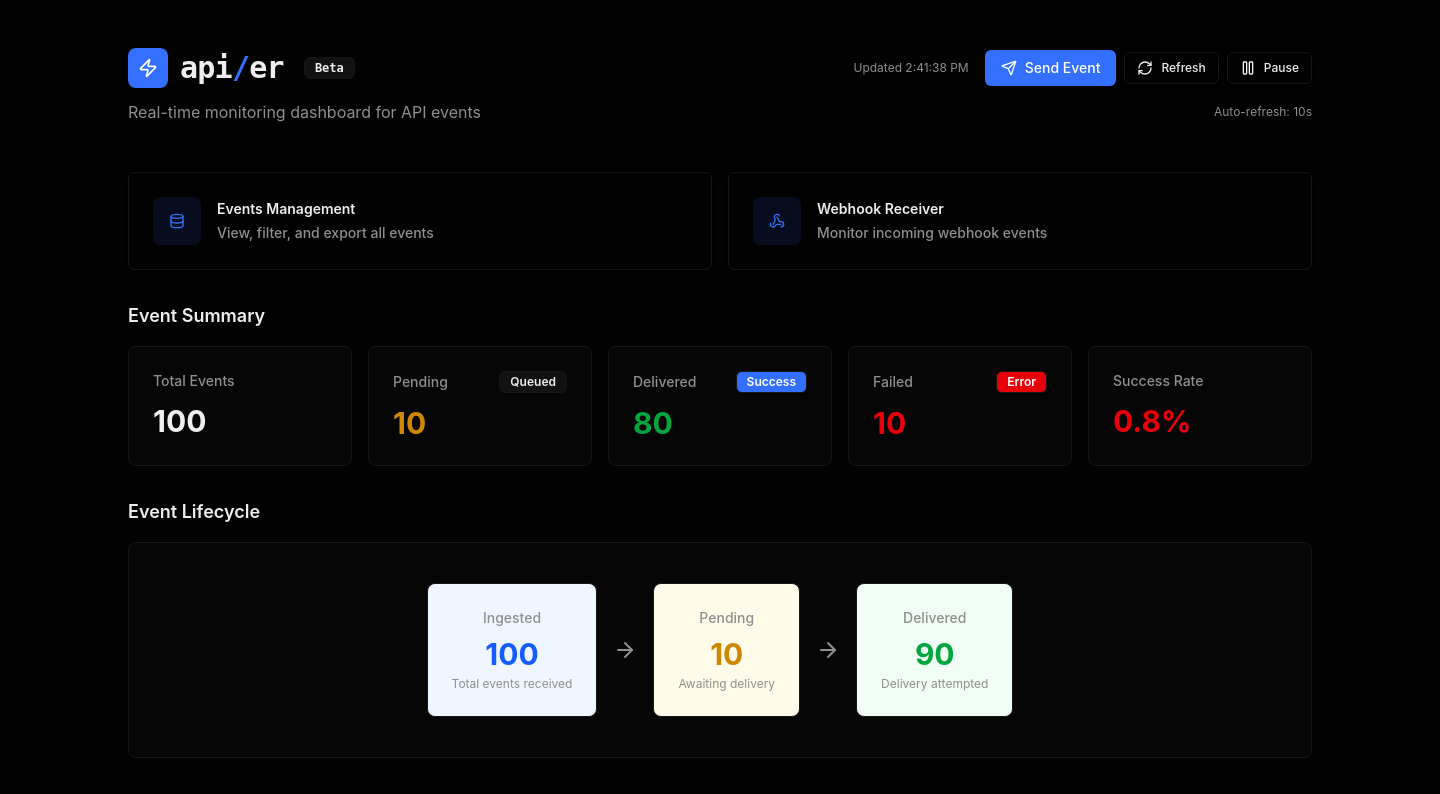
Scenario: Dashboard Auto-Refresh E2E Tests › Pause/Resume Functionality › should toggle button text between Pause and Resume
// Click to pause - should show Resume
Click the button "Pause" at [1269, 68], box left=1227, top=52, right=1312, bottom=84
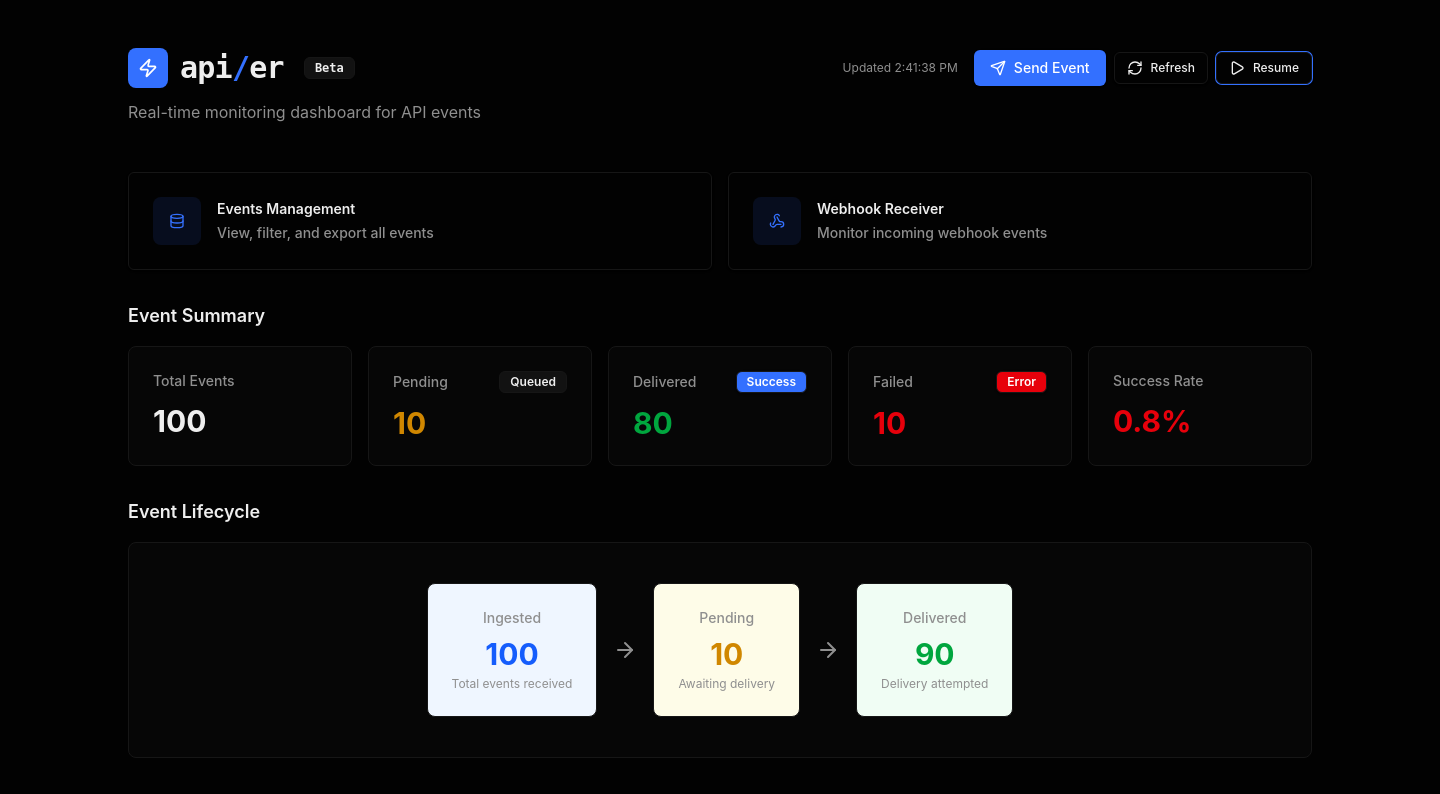
Result: the button "Resume" is shown
// Click to resume - should show Pause again
Click the button "Resume" at [1264, 68], box left=1216, top=52, right=1312, bottom=84
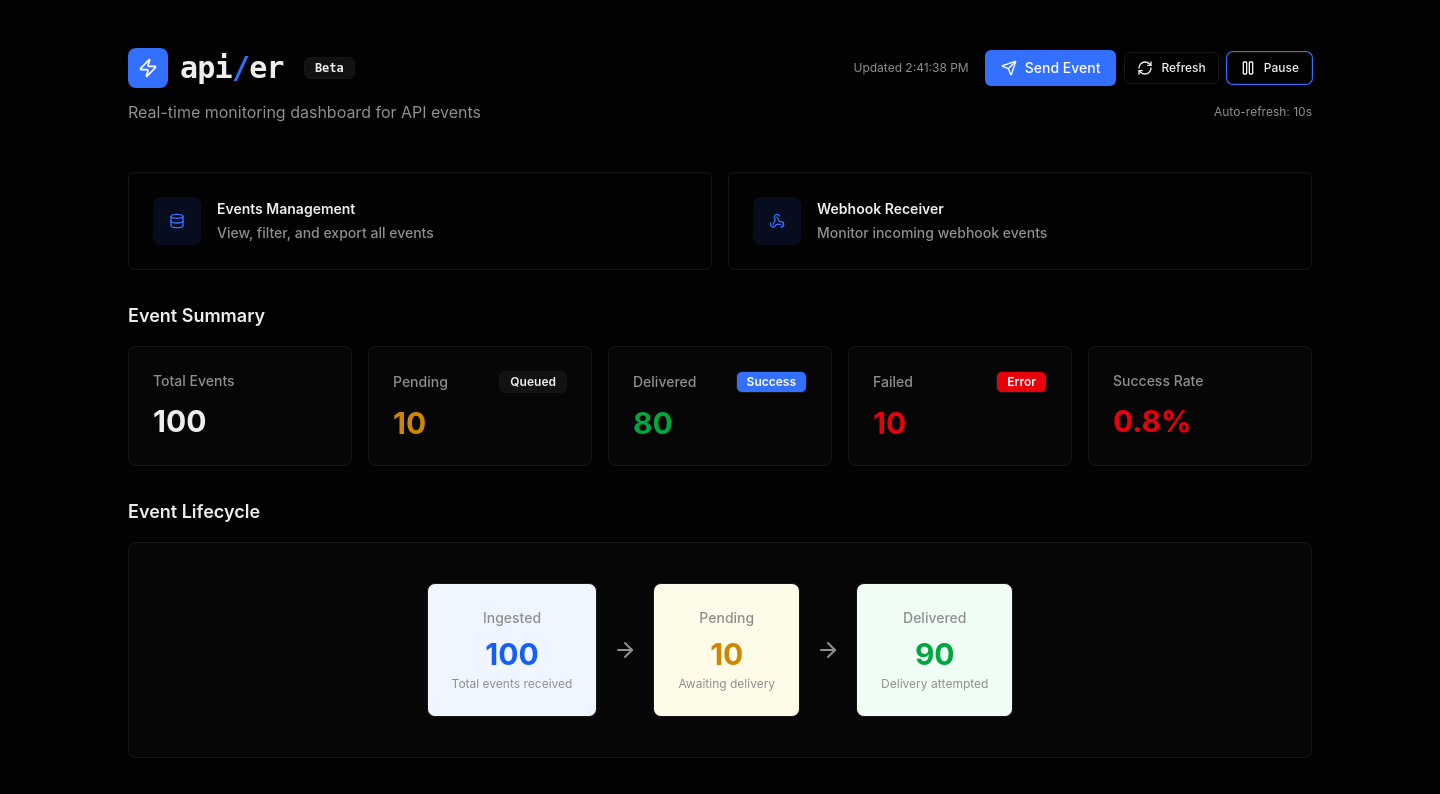
Result: the button "Pause" is shown at left=1227, top=52, right=1312, bottom=84
